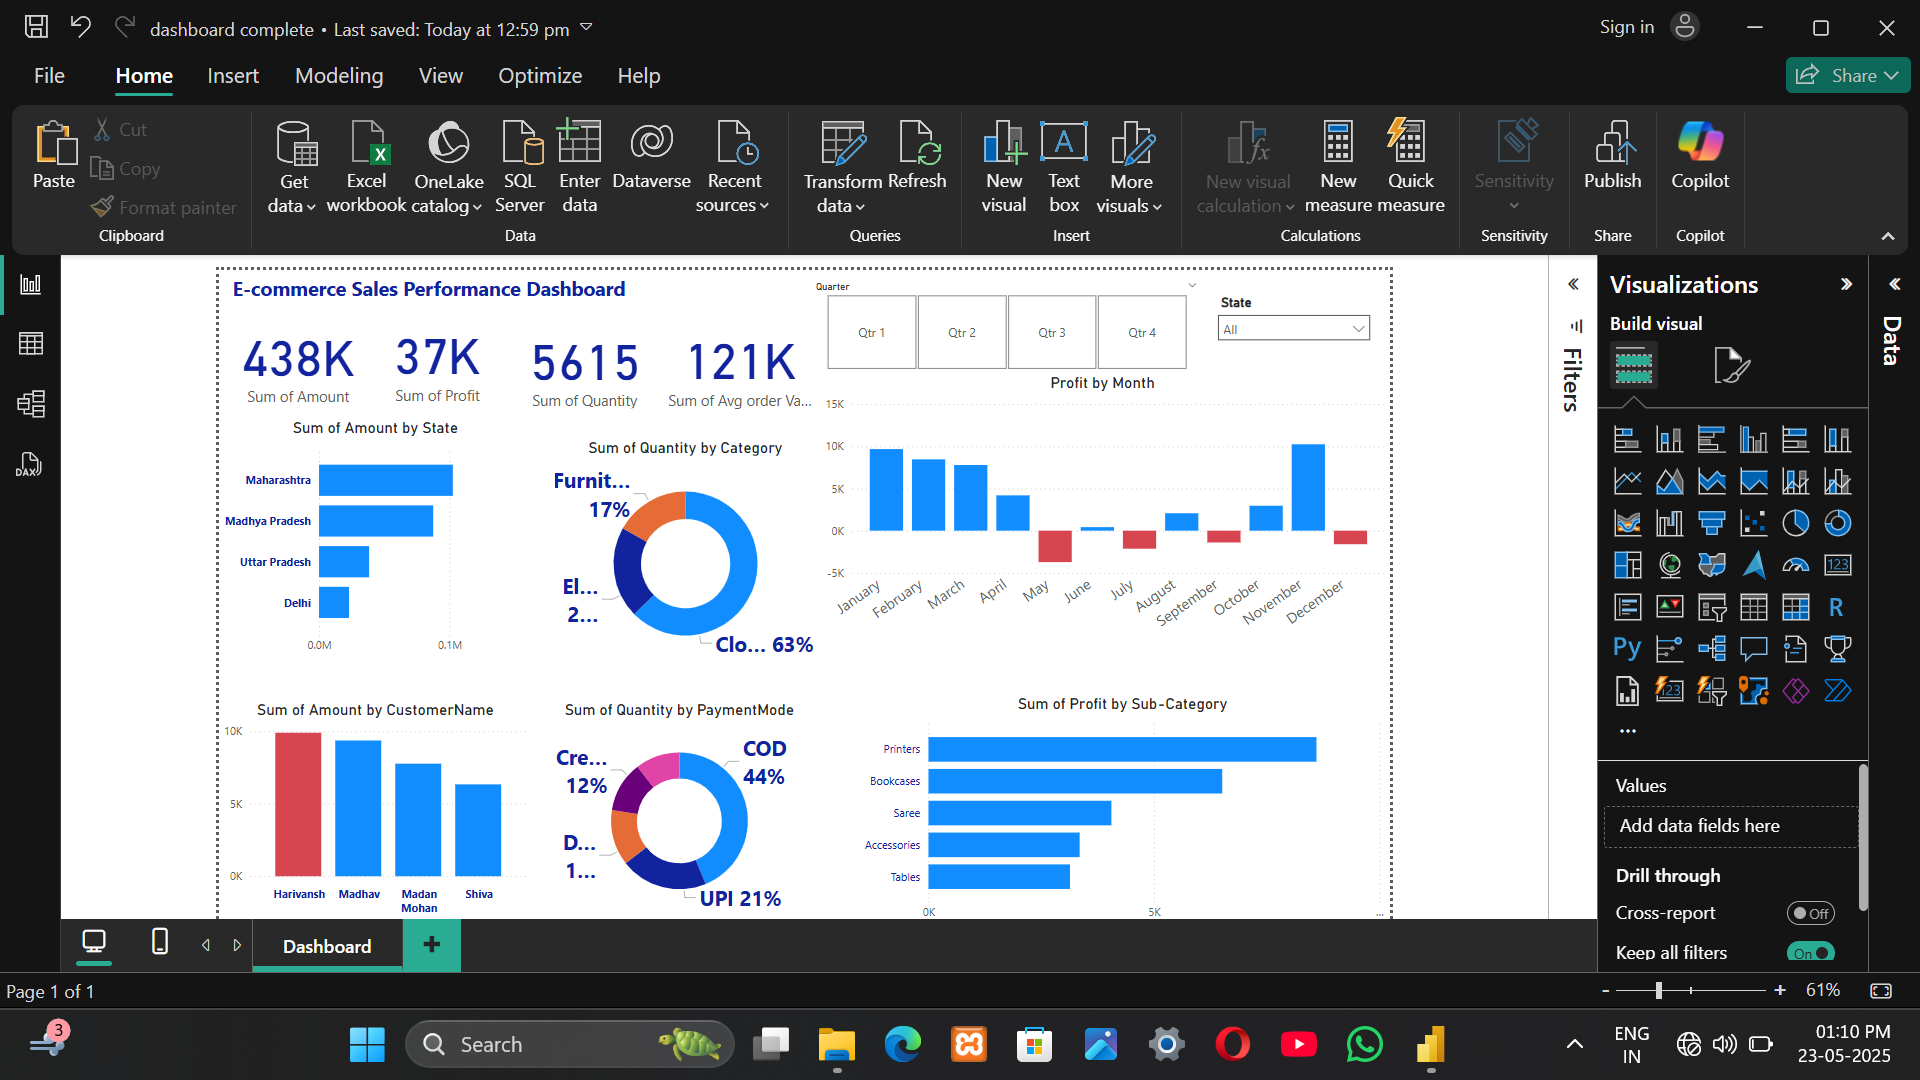

What the dashboard file says about the page in this screenshot:
{"tool":"powerbi","page":{"name":"Page 1","canvas":[1280,720],"ordinal":0},"visuals":[{"type":"textbox","box":[10,0,494,40],"z":0},{"type":"columnChart","title":"Profit by Month","fields":{"Category":["Orders.Order Date.Variation.Date Hierarchy.Month"],"Y":["Details.Profit"]},"box":[652.8,113.2,626.4,301.9],"z":1000},{"type":"barChart","fields":{"Category":["Details.Sub-Category"],"Y":["Details.Profit"]},"box":[694.3,464.2,584.9,256.6],"z":2000},{"type":"donutChart","fields":{"Category":["Details.Category"],"Y":["Details.Quantity"]},"box":[367.9,183,284.9,254.7],"z":3000},{"type":"donutChart","fields":{"Y":["Details.Quantity"],"Category":["Details.PaymentMode"]},"box":[367.9,469.8,271.7,243.4],"z":4000},{"type":"card","fields":{"Values":["Details.Amount"]},"box":[9.4,39.6,152.8,120.8],"z":5000},{"type":"card","fields":{"Values":["Details.Profit"]},"box":[162.3,41.5,152.8,115.1],"z":6000},{"type":"card","fields":{"Values":["Details.Quantity"]},"box":[315.1,52.8,169.8,103.8],"z":7000},{"type":"card","fields":{"Values":["Details.Avg order Value"]},"box":[484.9,47.2,167.9,113.2],"z":8000},{"type":"barChart","fields":{"Category":["Orders.State"],"Y":["Details.Amount"]},"box":[0,162,342,266],"z":9000},{"type":"columnChart","fields":{"Category":["Orders.CustomerName"],"Y":["Details.Amount"]},"box":[0,470,342,243],"z":10000},{"type":"slicer","fields":{"Values":["Orders.Order Date.Variation.Date Hierarchy.Quarter"]},"box":[640,6,442,108],"z":11000},{"type":"slicer","fields":{"Values":["Orders.State"]},"box":[1082,22,186,92],"z":12000}]}

Visuals, with their boxes on the page's 1280x720 design canvas (x1, y1, x2, y2). These are canvas units, not pixel positions in the 1920x1080 screenshot, which may show the page scaled, cropped or inside an application window:
textbox: pyautogui.locateOnScreen(10, 0, 504, 40)
"Profit by Month" columnChart: pyautogui.locateOnScreen(653, 113, 1279, 415)
barChart - Details.Sub-Category x Details.Profit: pyautogui.locateOnScreen(694, 464, 1279, 721)
donutChart - Details.Category x Details.Quantity: pyautogui.locateOnScreen(368, 183, 653, 438)
donutChart - Details.Quantity x Details.PaymentMode: pyautogui.locateOnScreen(368, 470, 640, 713)
card - Details.Amount: pyautogui.locateOnScreen(9, 40, 162, 160)
card - Details.Profit: pyautogui.locateOnScreen(162, 42, 315, 157)
card - Details.Quantity: pyautogui.locateOnScreen(315, 53, 485, 157)
card - Details.Avg order Value: pyautogui.locateOnScreen(485, 47, 653, 160)
barChart - Orders.State x Details.Amount: pyautogui.locateOnScreen(0, 162, 342, 428)
columnChart - Orders.CustomerName x Details.Amount: pyautogui.locateOnScreen(0, 470, 342, 713)
slicer - Orders.Order Date.Variation.Date Hierarchy.Quarter: pyautogui.locateOnScreen(640, 6, 1082, 114)
slicer - Orders.State: pyautogui.locateOnScreen(1082, 22, 1268, 114)
